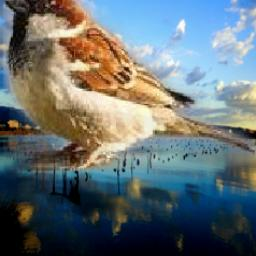Sparrow: (3, 0, 255, 172)
